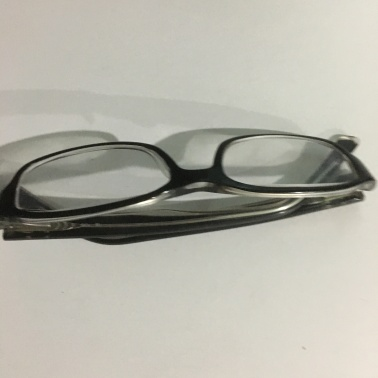glasses: (14, 123, 364, 255)
